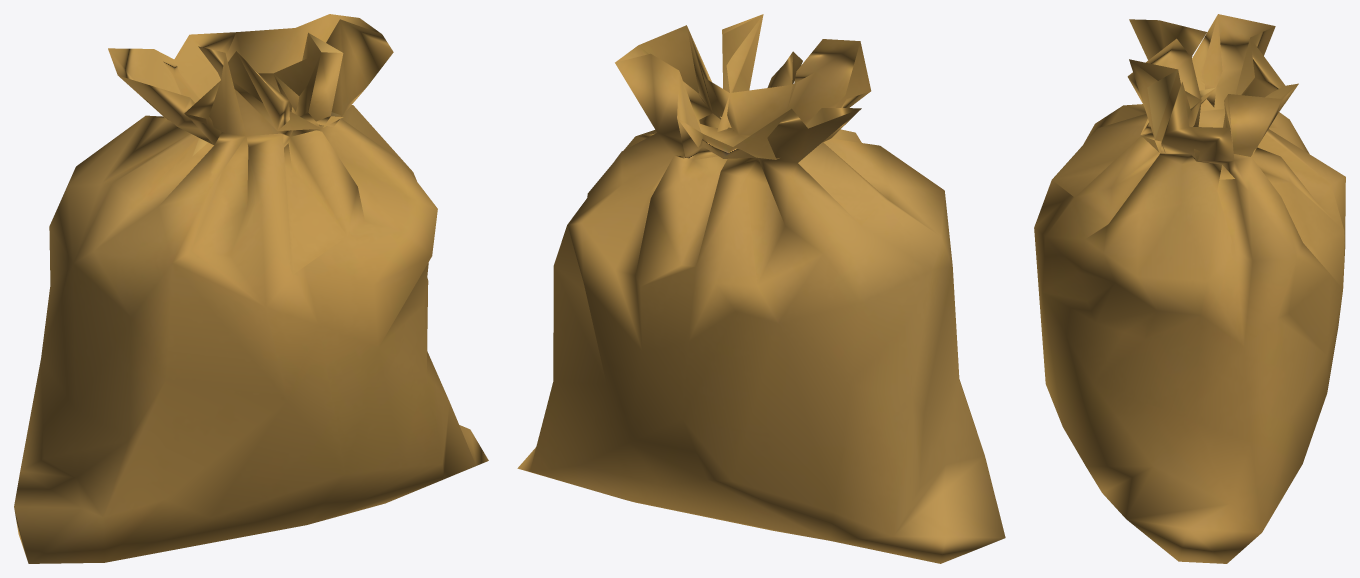
The model's file is tripo_convert_f692dd40-ab30-4647-9004-d0938d887794.fbx.
The picture shows the model from 3 angles, left to right: view 1: azimuth 30°, elevation 25°; view 2: azimuth 150°, elevation 25°; view 3: azimuth 270°, elevation 25°; orthographic projection. The views are drawn at different scales.
Visible parts, largest first — view 1: tripo_node_f692dd40; view 2: tripo_node_f692dd40; view 3: tripo_node_f692dd40.
Boxes of the visible parts, x1,y1,x2,y2 form: tripo_node_f692dd40: (14,14,488,563); tripo_node_f692dd40: (517,14,1005,563); tripo_node_f692dd40: (1034,14,1345,563).
Size of the model in its own units: 0.9892 by 0.9966 by 0.6466.
1 material, 1 textured.
